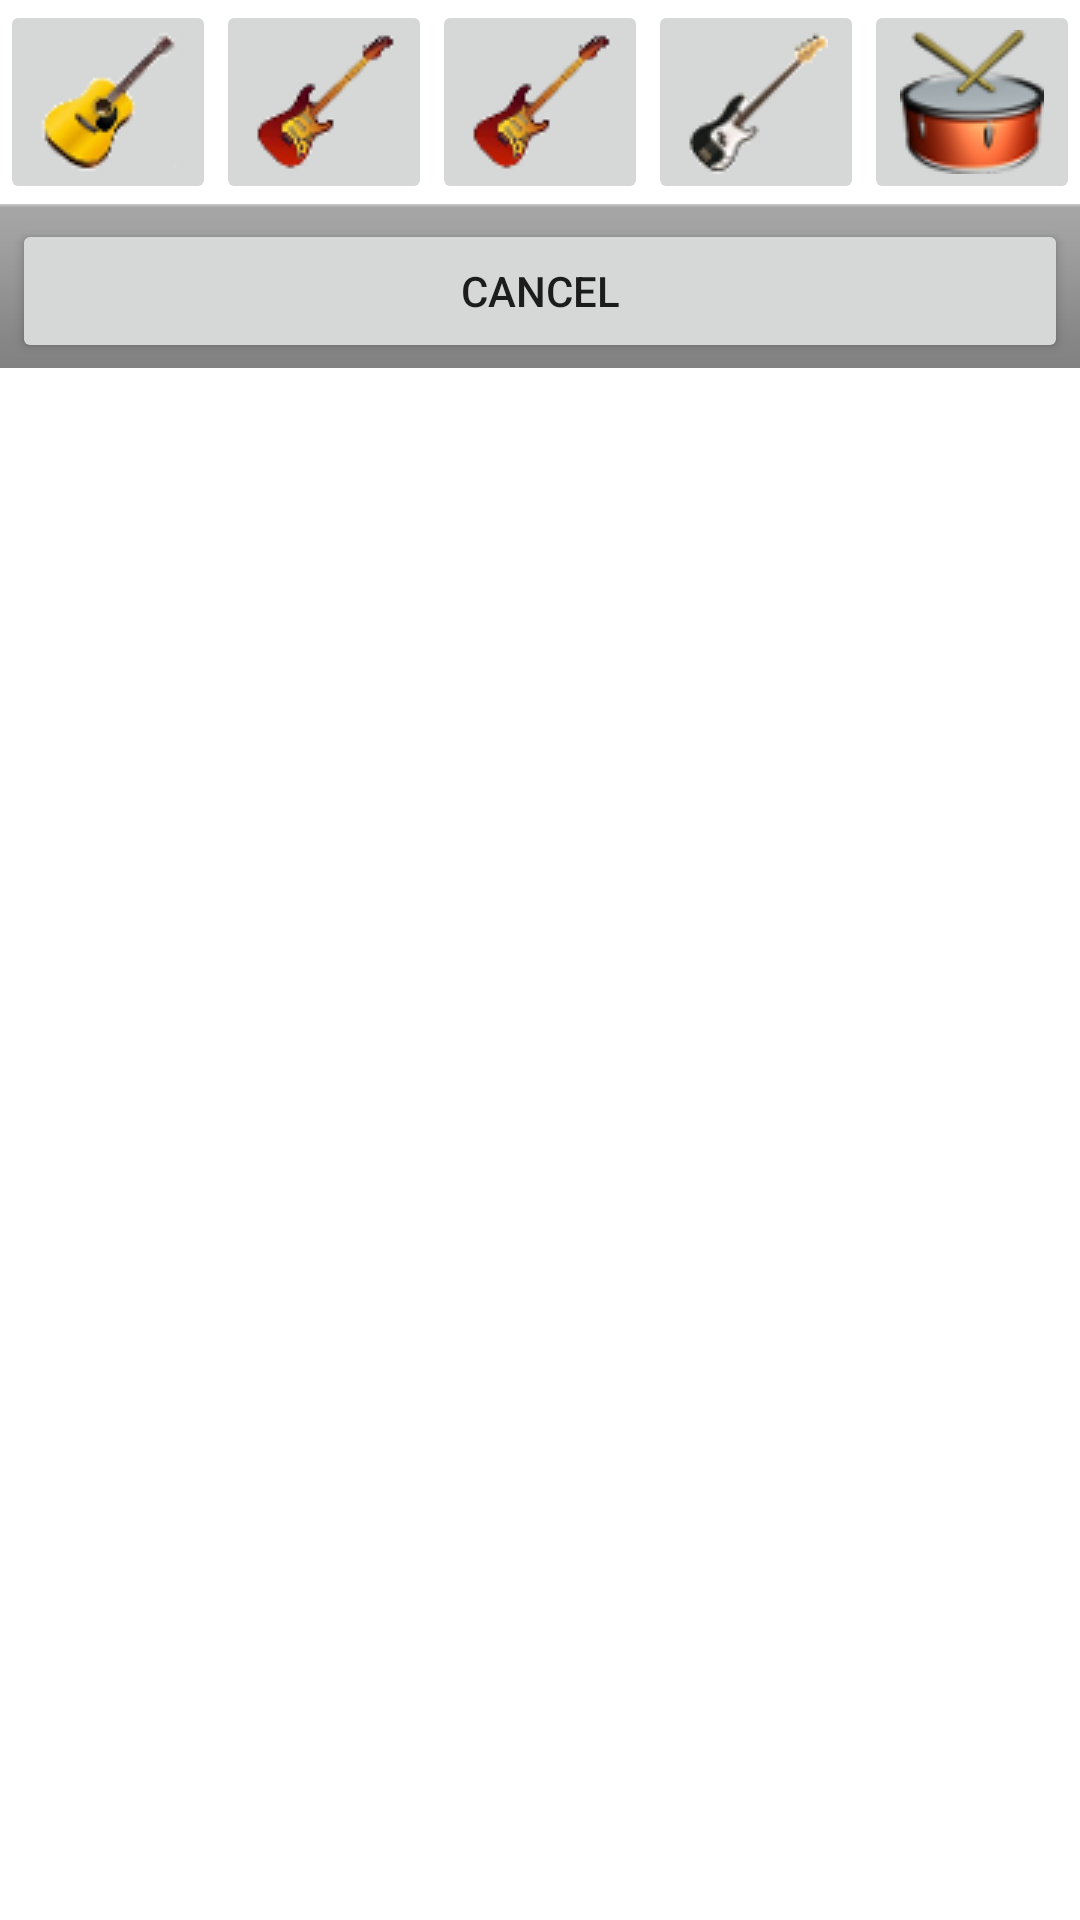

Icons on this 1080*1920 Android screen, each with its box as detection(x1, y1, x2, y2):
aguitar: detection(12, 18, 204, 186)
bass: detection(660, 18, 852, 186)
drum: detection(876, 18, 1068, 186)
eguitar: detection(228, 18, 420, 186), detection(444, 18, 636, 186)
